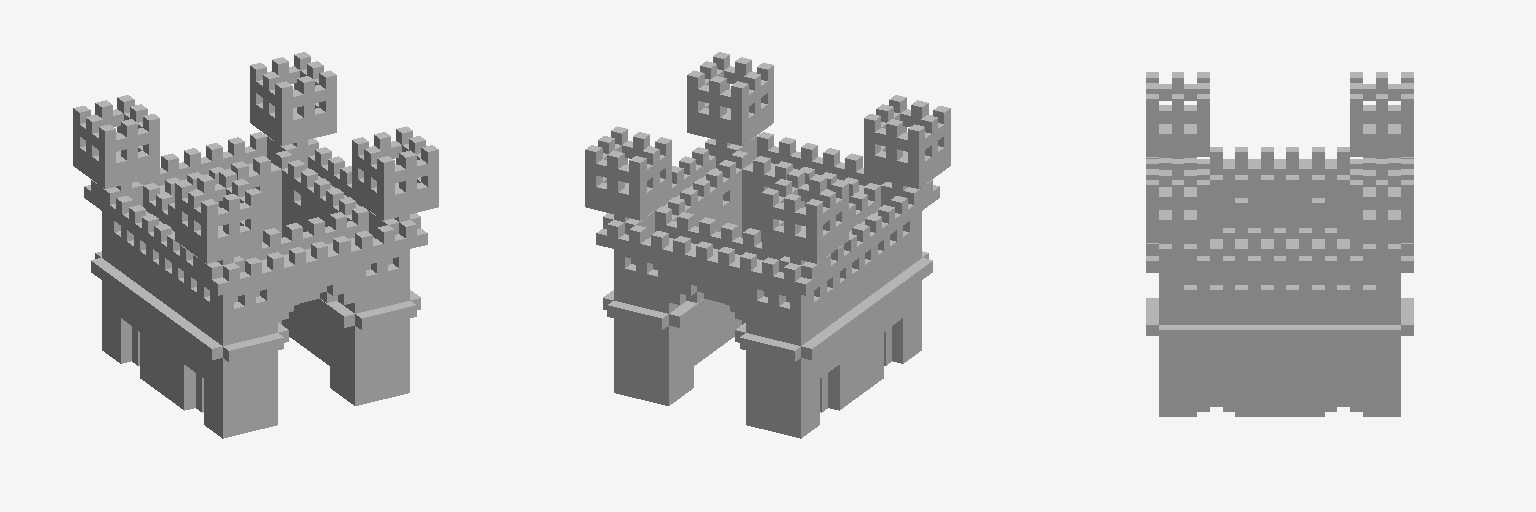
The model's file is castle.obj.
The picture shows the model from 3 angles: view 1: azimuth 30°, elevation 25°; view 2: azimuth 150°, elevation 25°; view 3: azimuth 270°, elevation 25°; orthographic projection.
Parts seen in each view (by area): view 1: castle_castle.001; view 2: castle_castle.001; view 3: castle_castle.001.
Boxes of the visible parts, x1,y1,x2,y2 form: castle_castle.001: [73, 52, 438, 438]; castle_castle.001: [585, 52, 950, 438]; castle_castle.001: [1146, 72, 1413, 416].
Bounding box in the file's own units: 21 × 22 × 21.